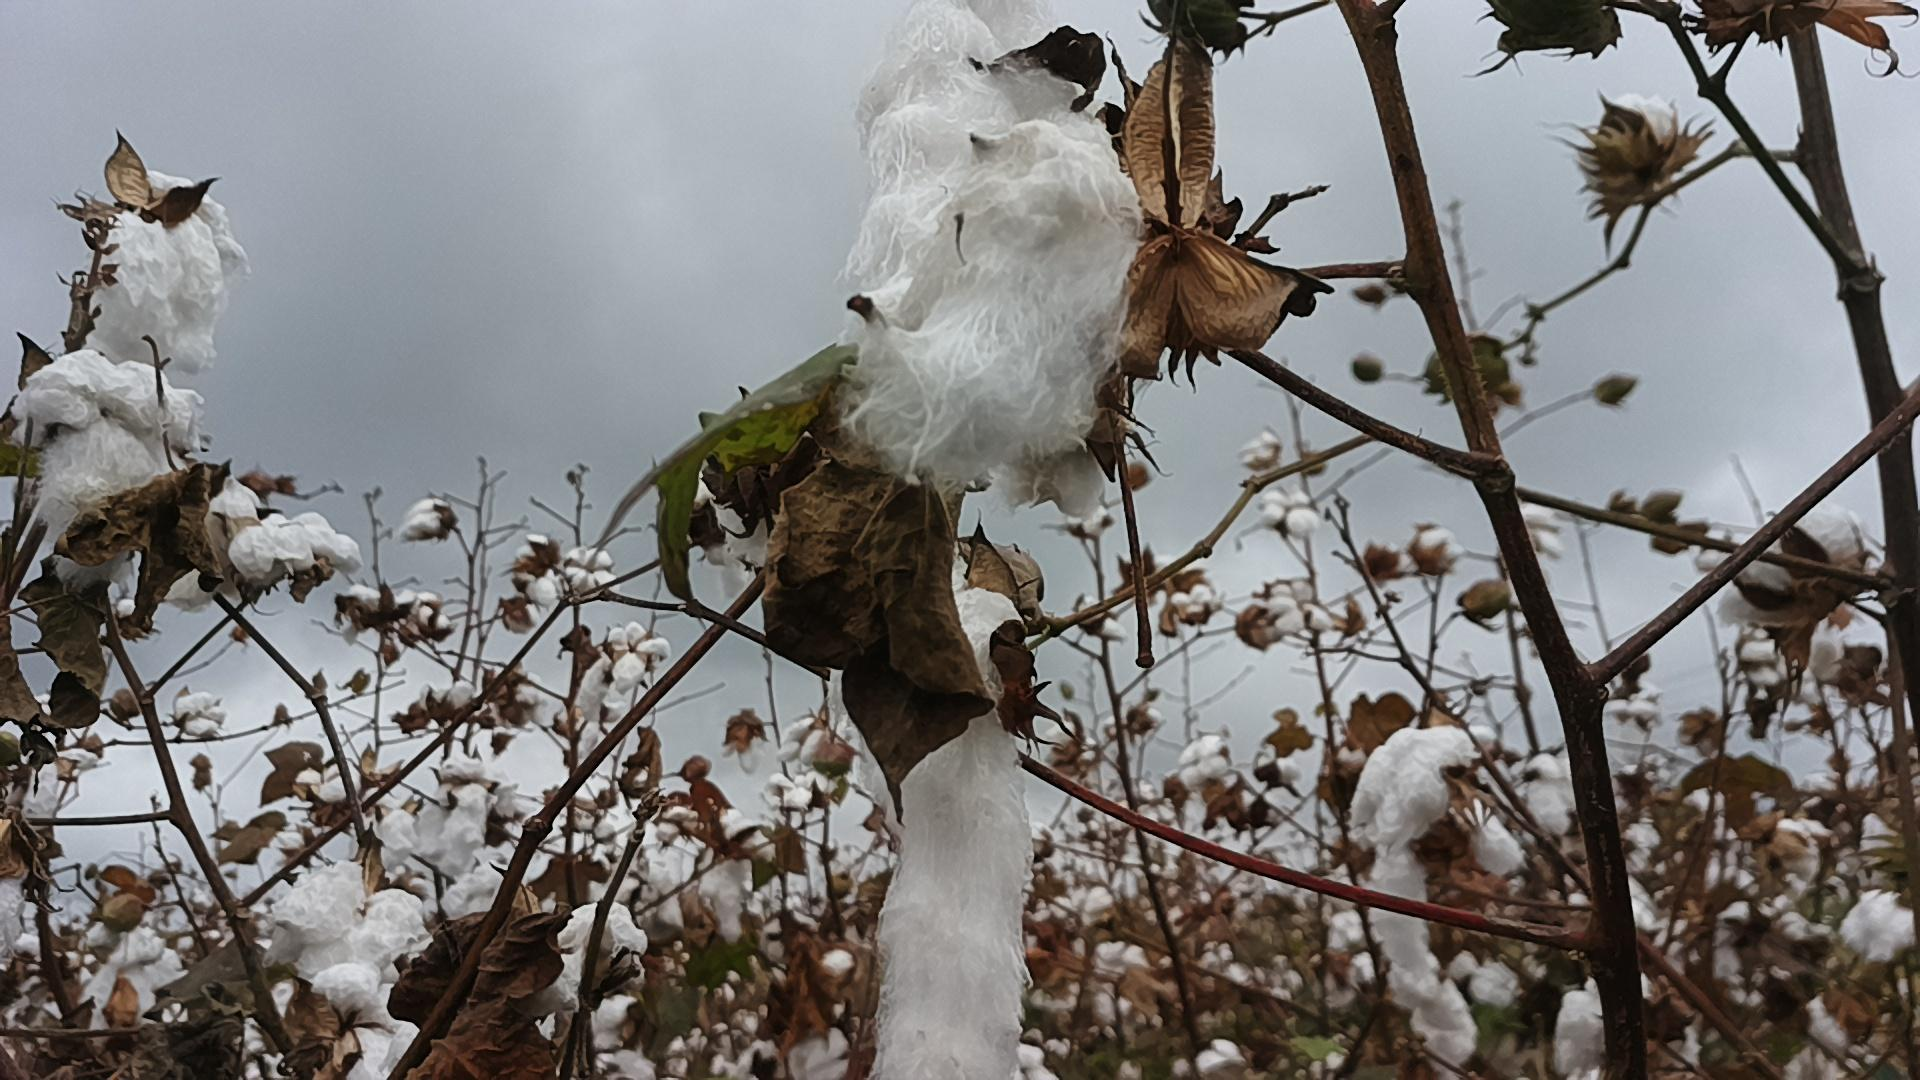cotton_ready: (845, 0, 1149, 502), (872, 591, 1033, 1080), (18, 353, 208, 585), (1352, 725, 1481, 1009), (88, 170, 253, 371), (260, 865, 423, 1005), (1722, 505, 1870, 626), (551, 906, 647, 1039), (1416, 952, 1516, 1076), (84, 927, 186, 1034), (1, 720, 104, 823), (698, 811, 777, 944), (228, 513, 360, 582), (704, 496, 790, 601), (986, 446, 1108, 520), (787, 1001, 870, 1080), (382, 806, 480, 870), (338, 1004, 418, 1080), (1553, 981, 1615, 1080), (241, 976, 298, 1080), (1838, 893, 1917, 965), (1604, 95, 1680, 161), (434, 758, 518, 816), (442, 865, 501, 923), (0, 877, 26, 968)
